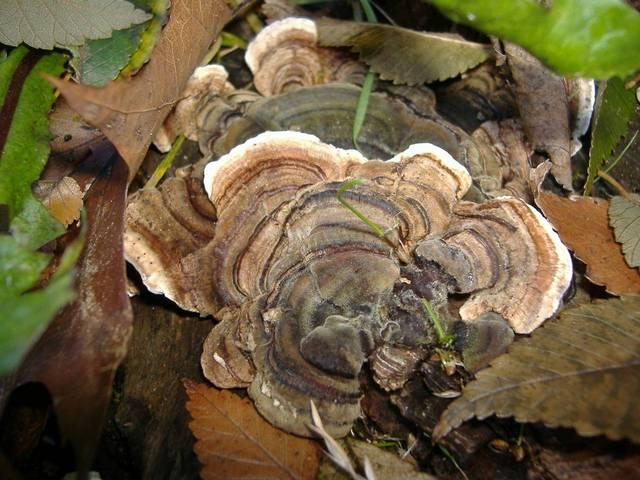poisonous_mushroom: (125, 127, 573, 441)
